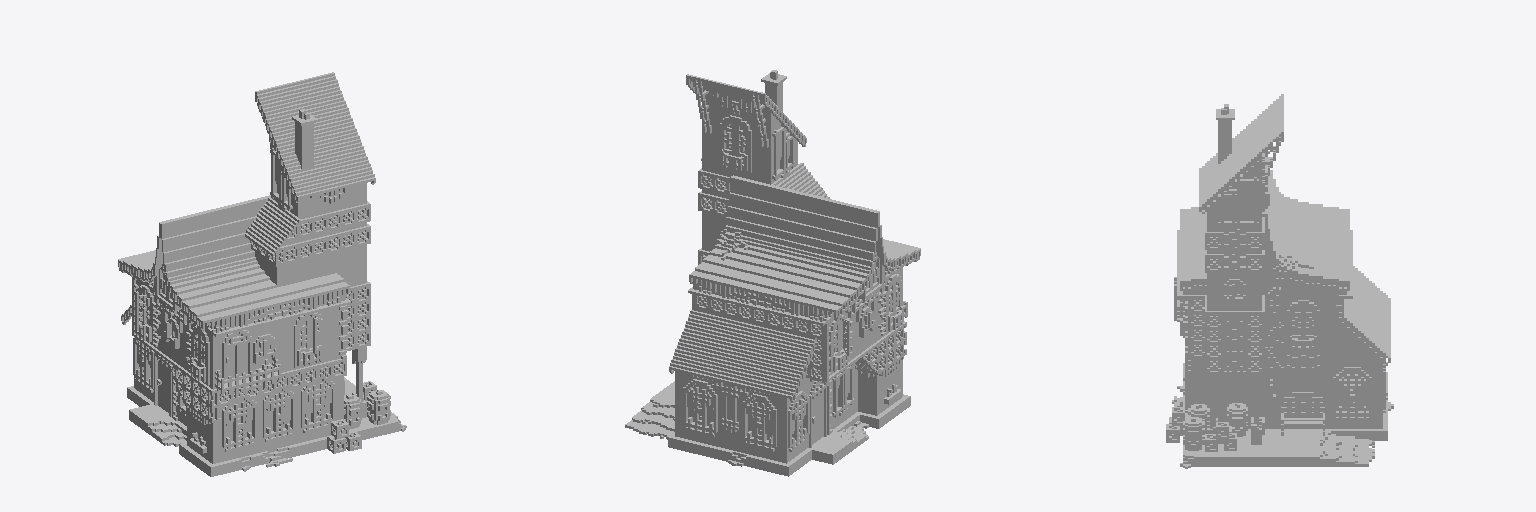
File: villageChurch-0.obj
3 views of the same model, side by side, from view 1: azimuth 30°, elevation 25°; view 2: azimuth 150°, elevation 25°; view 3: azimuth 270°, elevation 25° (orthographic).
Visible parts, largest first — view 1: object 1; view 2: object 1; view 3: object 1.
Boxes of the visible parts, x1,y1,x2,y2 form: object 1: [118, 72, 406, 476]; object 1: [625, 70, 920, 476]; object 1: [1166, 94, 1393, 468].
Bounding box in the file's own units: 8.7 × 13.1 × 8.3.